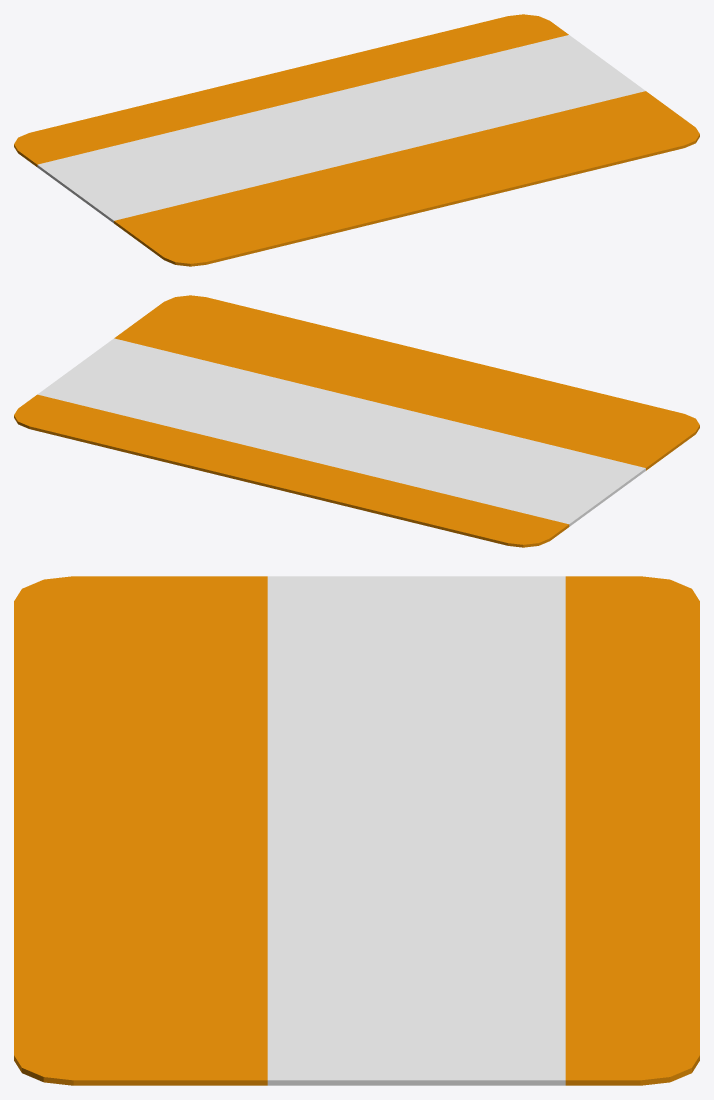
File: KeyCardlvl3.fbx
The picture shows the model from 3 angles, top to bottom: view 1: azimuth 30°, elevation 25°; view 2: azimuth 150°, elevation 25°; view 3: azimuth 270°, elevation 25°; orthographic projection. The views are drawn at different scales.
Visible parts, largest first — view 1: CardLVL3; view 2: CardLVL3; view 3: CardLVL3.
Boxes of the visible parts, left/top/right/bottom form: CardLVL3: left=14, top=14, right=699, bottom=266; CardLVL3: left=14, top=295, right=699, bottom=547; CardLVL3: left=14, top=576, right=699, bottom=1085.
Size of the model in its own units: 40 by 0.2 by 23.
